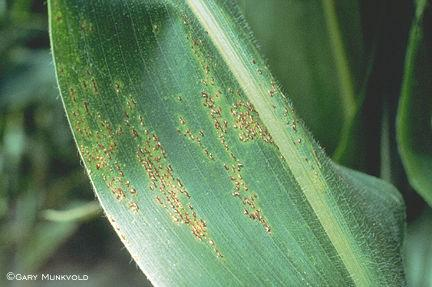Corn rust leaf: (40, 3, 405, 269)
